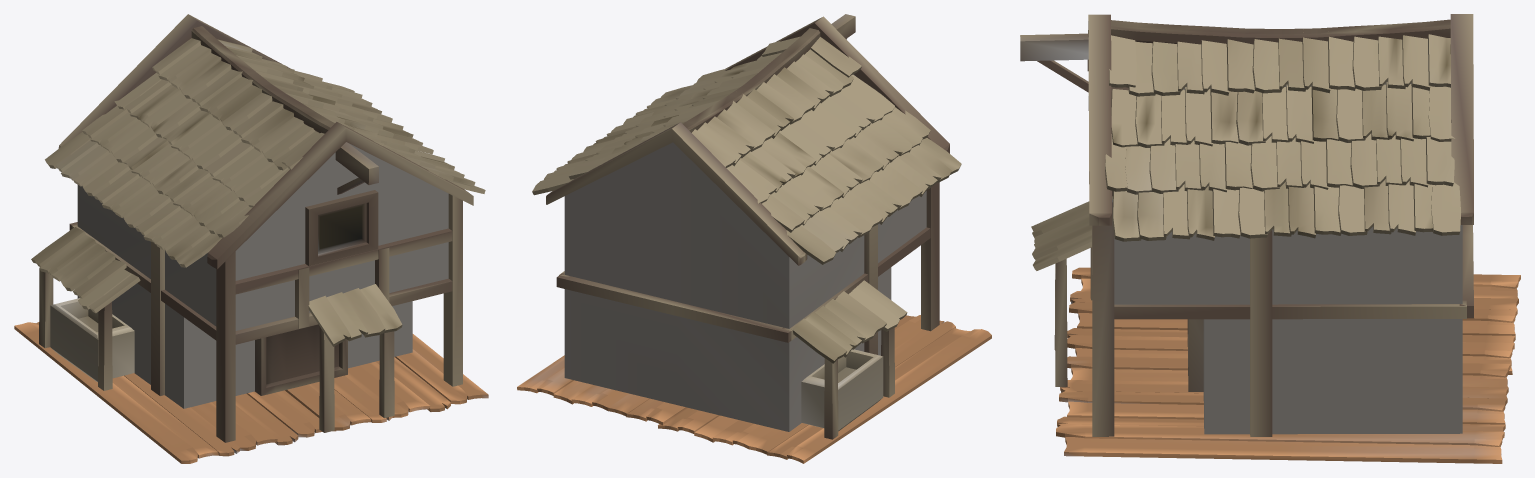
Rendered from House01 (1).fbx.
3 views of the same model, side by side, from view 1: azimuth 30°, elevation 25°; view 2: azimuth 150°, elevation 25°; view 3: azimuth 270°, elevation 25° (orthographic). The views are drawn at different scales.
Parts seen in each view (by area): view 1: House01_LOD0; view 2: House01_LOD0; view 3: House01_LOD0.
Boxes of the visible parts, x1,y1,x2,y2 form: House01_LOD0: (14,14,488,463); House01_LOD0: (517,14,991,463); House01_LOD0: (1020,14,1520,463).
Size of what is drawn, in the model's own units: 226 by 198 by 249.
